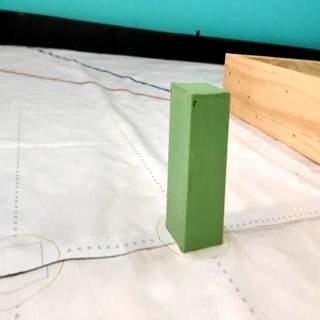greenbox: (164, 80, 230, 256)
